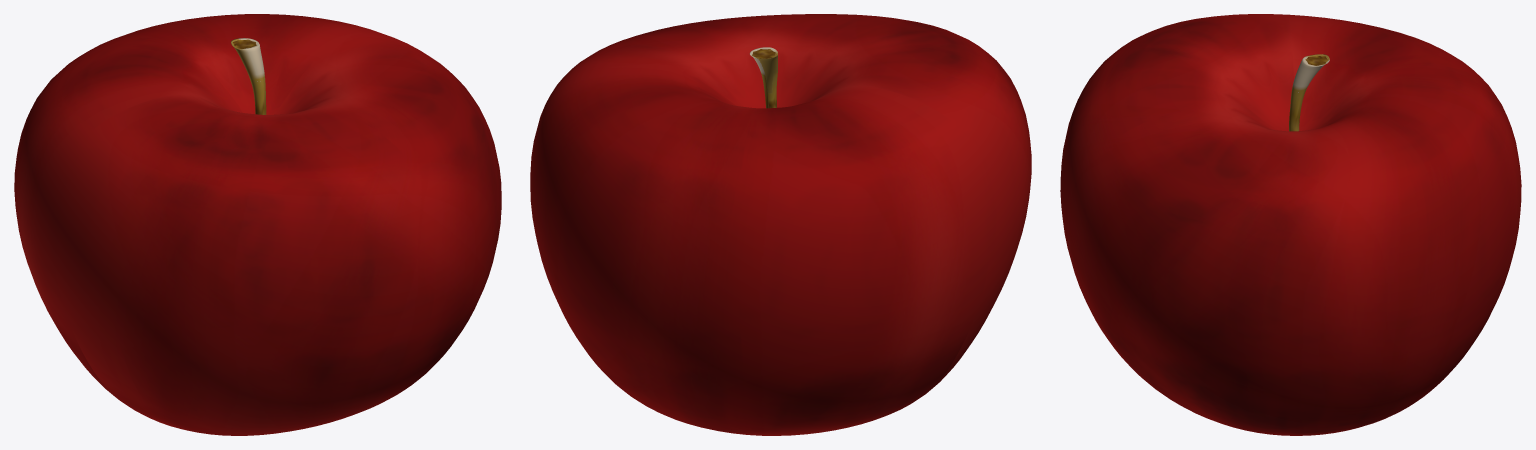
The model's file is Apple.fbx.
The picture shows the model from 3 angles, left to right: view 1: azimuth 30°, elevation 25°; view 2: azimuth 150°, elevation 25°; view 3: azimuth 270°, elevation 25°; orthographic projection. The views are drawn at different scales.
Visible parts, largest first — view 1: Apple, Stem; view 2: Apple, Stem; view 3: Apple, Stem.
Part boxes in pixels (x1=…): Apple: x1=14, y1=14, x2=501, y2=435; Stem: x1=231, y1=38, x2=266, y2=114; Apple: x1=530, y1=14, x2=1031, y2=435; Stem: x1=749, y1=47, x2=777, y2=108; Apple: x1=1060, y1=14, x2=1521, y2=435; Stem: x1=1289, y1=54, x2=1329, y2=131.
Bounding box in the file's own units: 6.86 × 5.22 × 6.74.
2 materials, 2 textured.
